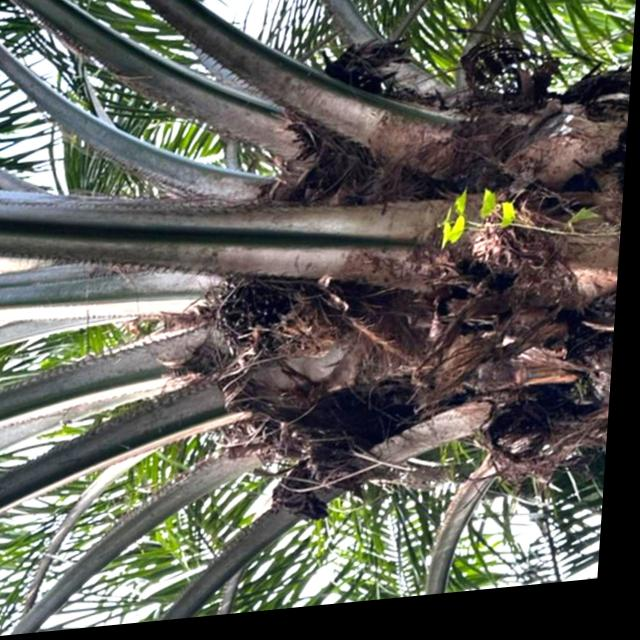unripe: (202, 254, 385, 396)
